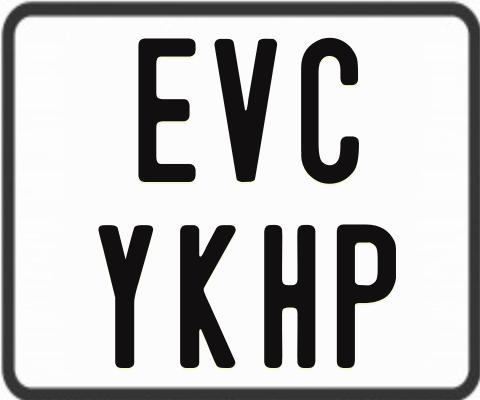C: (299, 35, 361, 181)
E: (136, 38, 196, 181)
H: (262, 222, 318, 367)
K: (180, 222, 240, 371)
P: (337, 225, 398, 374)
V: (212, 36, 280, 182)
Y: (97, 225, 154, 374)
